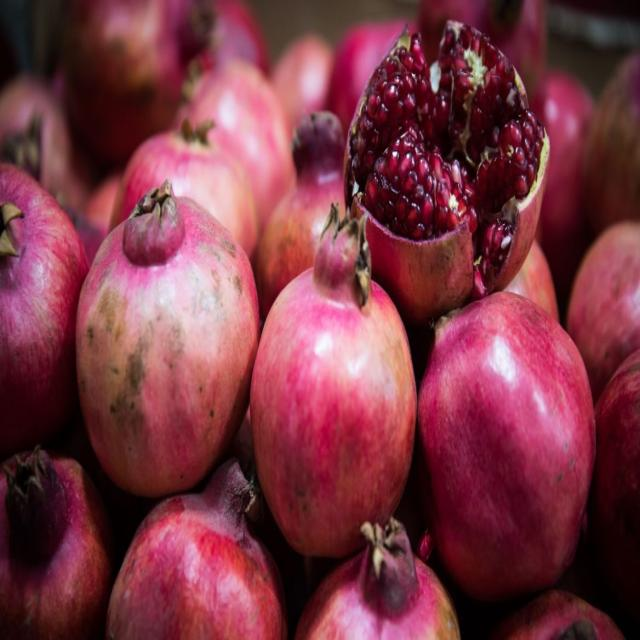apple: (75, 180, 262, 508), (249, 206, 417, 559), (418, 287, 605, 598), (106, 459, 290, 640), (68, 1, 230, 169), (3, 153, 95, 438), (570, 224, 640, 573), (299, 512, 470, 640), (3, 442, 117, 630)
